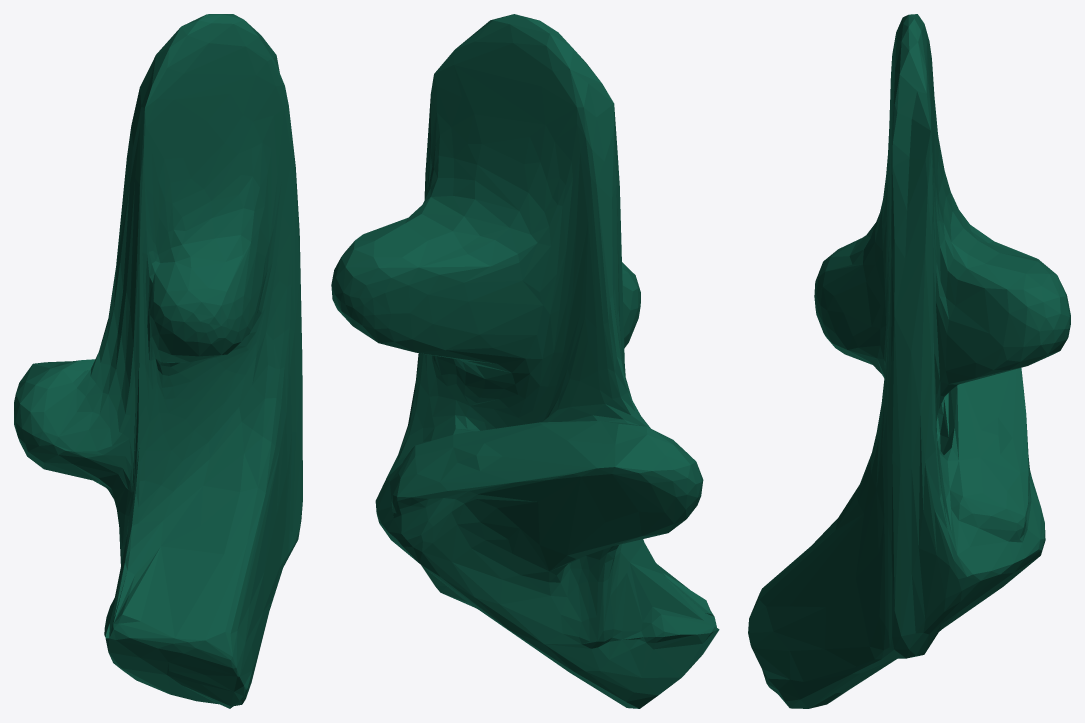
3 renders of one model, left to right at view 1: azimuth 30°, elevation 25°; view 2: azimuth 150°, elevation 25°; view 3: azimuth 270°, elevation 25°, orthographic. The views are drawn at different scales.
Visible parts, largest first — view 1: 092_Cube.382; view 2: 092_Cube.382; view 3: 092_Cube.382.
Boxes of the visible parts, box(x1,y1,x2,y2) form: 092_Cube.382: box(14, 14, 302, 708); 092_Cube.382: box(331, 14, 719, 708); 092_Cube.382: box(748, 14, 1070, 708).
Bounding box in the file's own units: 6.51 × 13.58 × 5.64.
